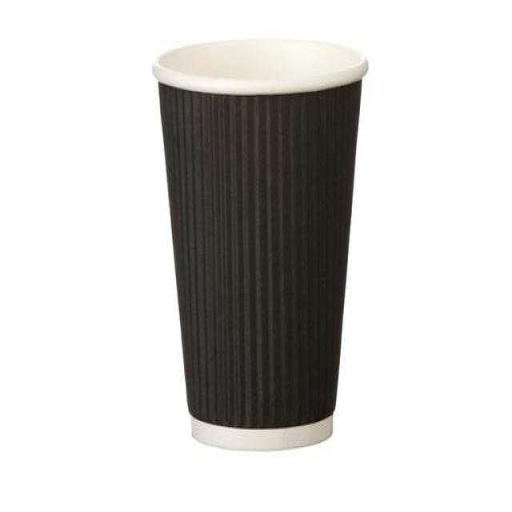cup: (151, 36, 369, 452)
